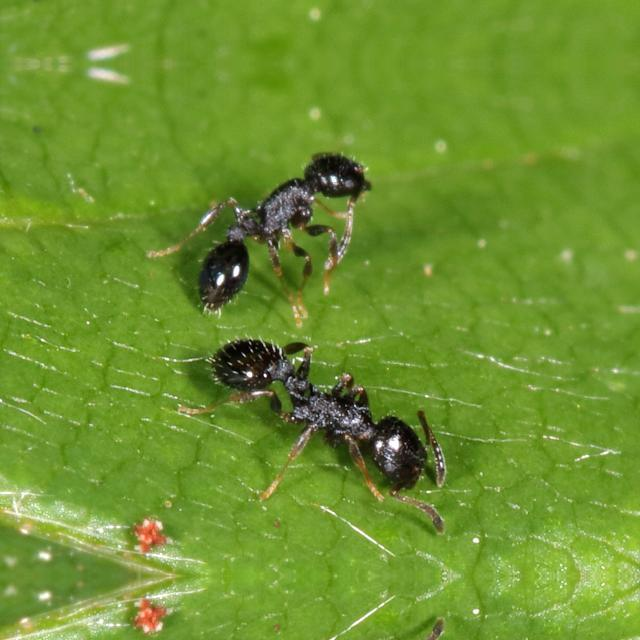Temnothorax: (194, 320, 472, 520), (167, 130, 379, 320)
